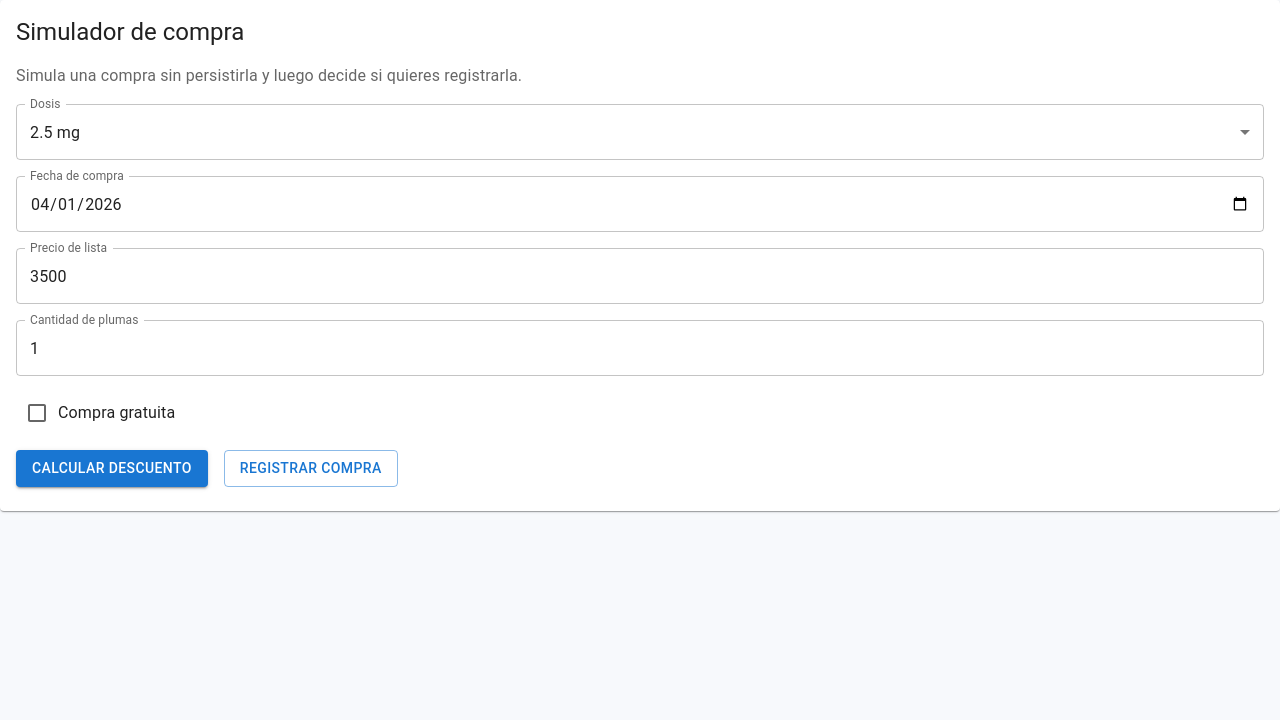
it: SimulatorPage › shows the backend error message when simulation fails
Click the button "Calcular descuento": (112, 468) [16,450,208,486]
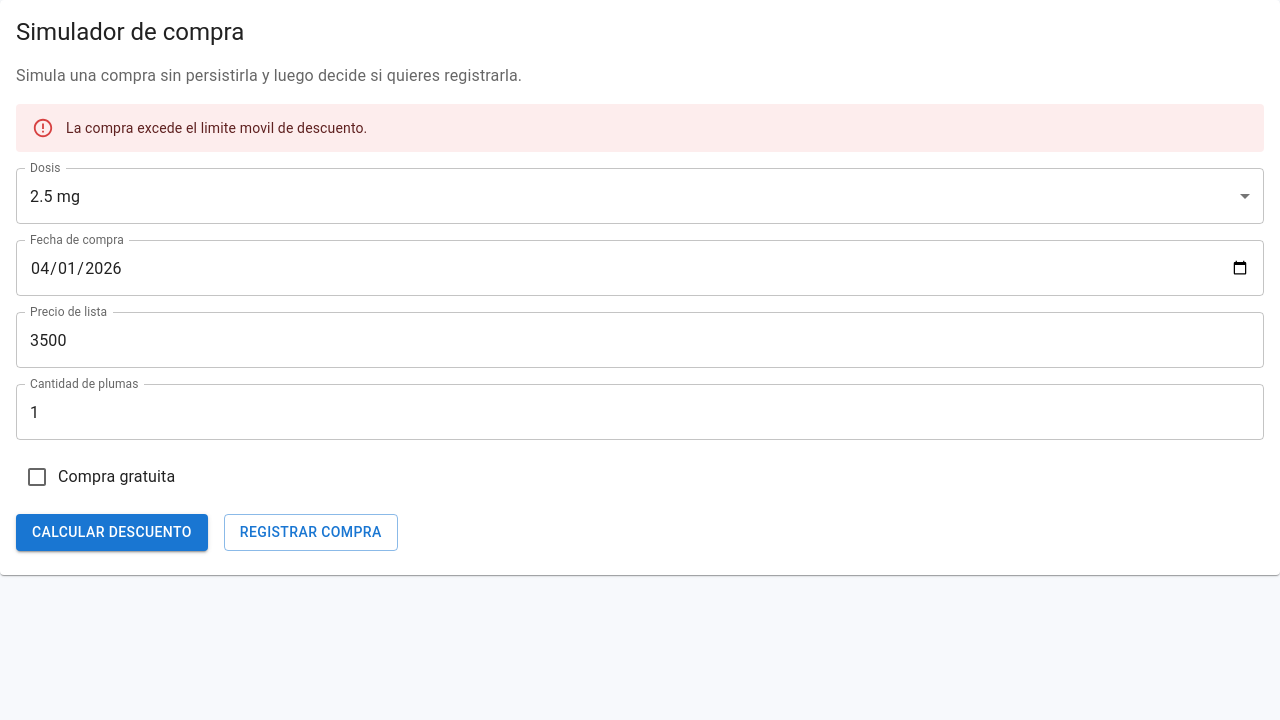
Check: the text "La compra excede el limite movil de descuento." is shown, box [66,120,368,136]
